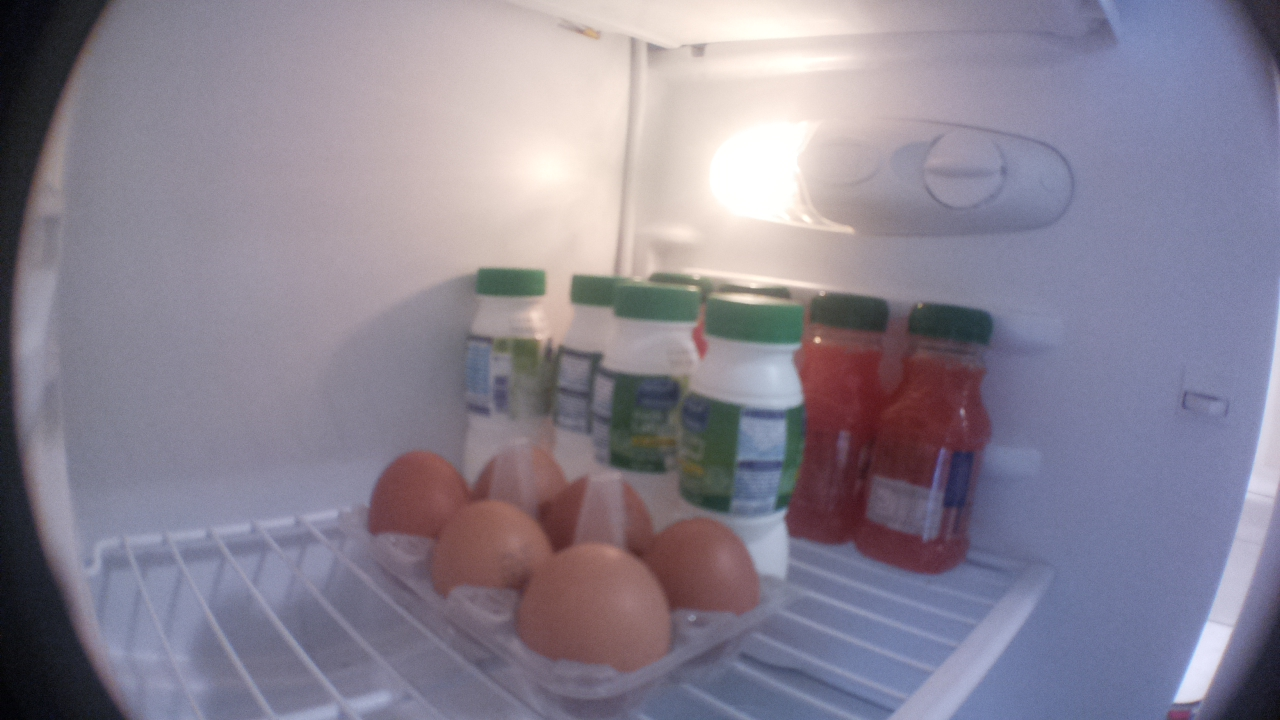egg: (501, 539, 676, 720), (640, 509, 762, 684), (408, 494, 554, 604), (374, 445, 481, 542), (539, 468, 653, 553), (484, 442, 572, 507)
juice: (869, 298, 1006, 579), (800, 289, 888, 567)
laban: (690, 292, 812, 593), (605, 282, 692, 504), (461, 253, 557, 446), (556, 265, 611, 468)
